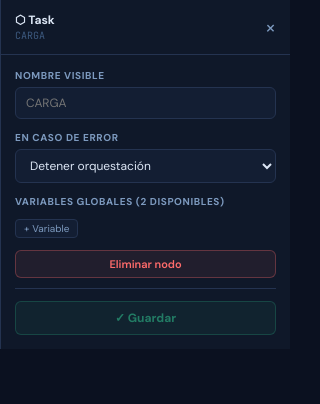
it: NodeConfigPanel · edicion de variables › agrega una fila vacia
The width and height of the screenshot is (320, 404).
Expected: the text "Variables globales (2 disponibles)" is shown, top-left (15, 195), bottom-right (225, 208)
Click the button "+ Variable" at (47, 228), box top-left (15, 219), bottom-right (78, 238)
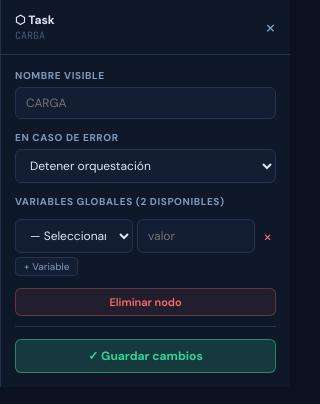
Now the number of dropdowns is 2, box top-left (15, 149), bottom-right (276, 183); top-left (15, 219), bottom-right (133, 253)
Now the dropdown below "Variables globales (2 disponibles)" shows "— Seleccionar —", box top-left (15, 219), bottom-right (133, 253)
